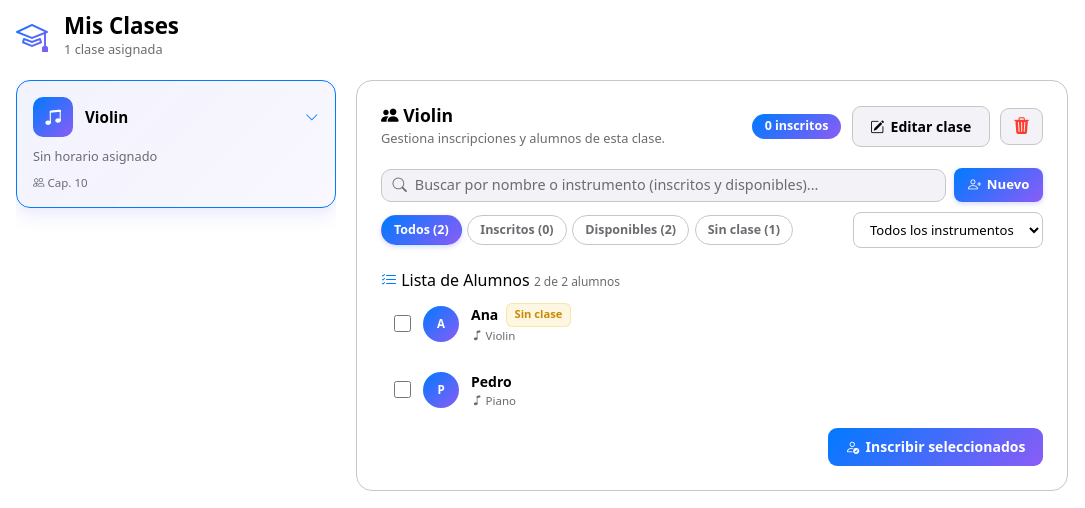
Test: gestionarClasesView › permite filtrar disponibles para mostrar solo alumnos sin clase
expect the number of labels with class "disponible-item" is 2: met, box [394,303,571,343]; [394,372,516,408]
Step 1. Click the checkbox with id "gcv-filter-sin-clase" → coordinates (948, 230), box [853,212,1043,248]
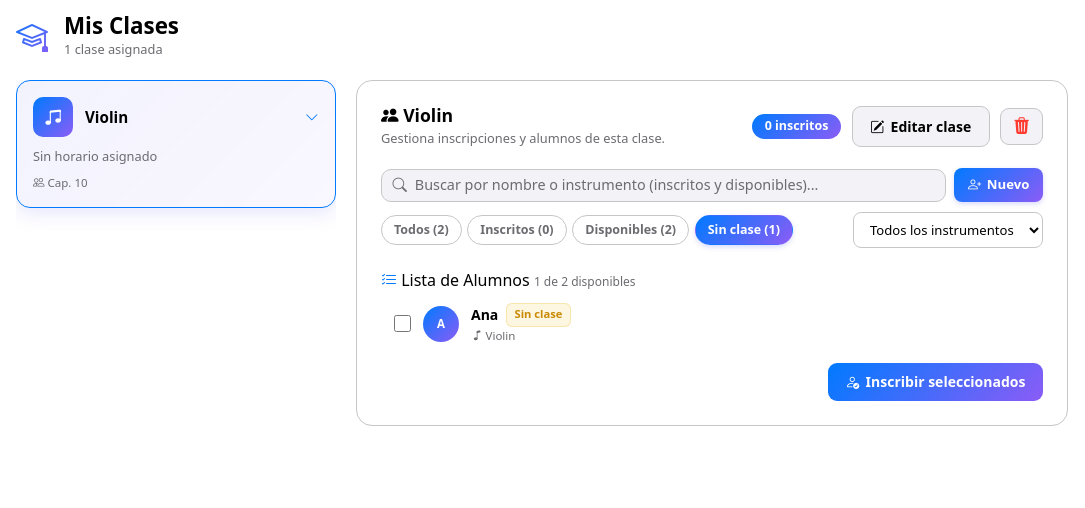
expect the text with id "gcv-count-disponibles" shows "1 de 2": met, box [534,274,636,290]
